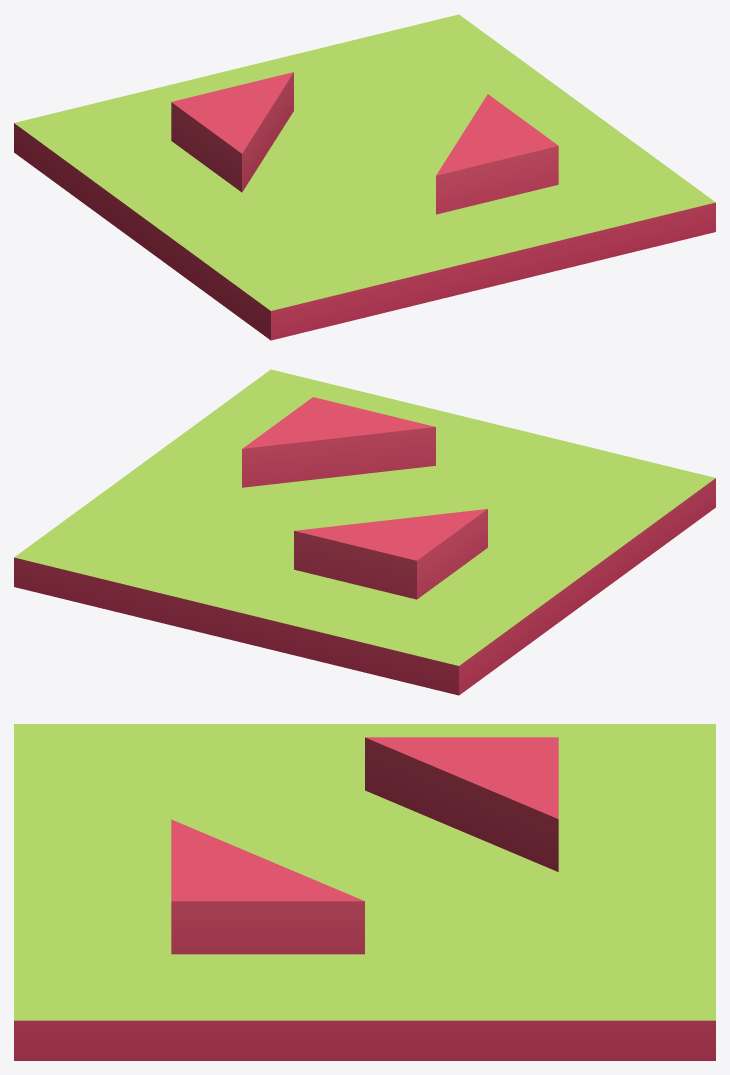
Rendered from obstacle-triangle.fbx.
The picture shows the model from 3 angles, top to bottom: view 1: azimuth 30°, elevation 25°; view 2: azimuth 150°, elevation 25°; view 3: azimuth 270°, elevation 25°; orthographic projection. The views are drawn at different scales.
Parts seen in each view (by area): view 1: obstacle_triangle; view 2: obstacle_triangle; view 3: obstacle_triangle.
Part boxes in pixels (bbox=[...]): obstacle_triangle: bbox=[14, 14, 715, 340]; obstacle_triangle: bbox=[14, 369, 715, 695]; obstacle_triangle: bbox=[14, 724, 715, 1060].
Bounding box in the file's own units: 99.99 × 14.67 × 99.99.
